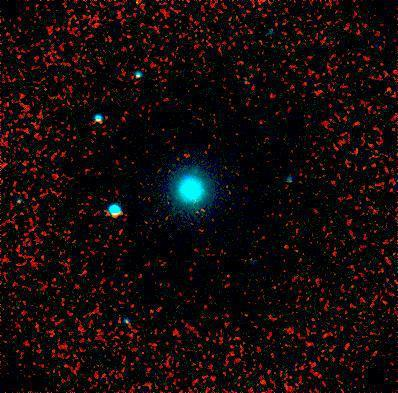star: (169, 160, 199, 190)
